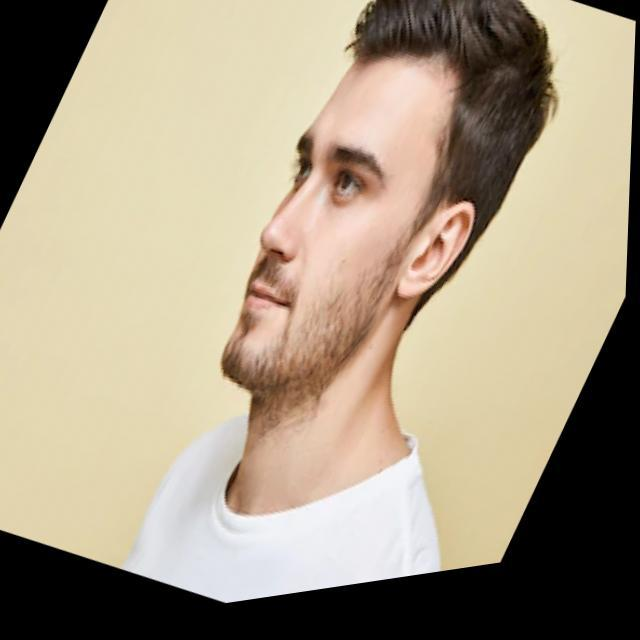Nonhelmet: (214, 0, 560, 408)
